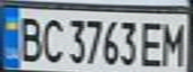3: (118, 17, 142, 68), (63, 16, 87, 65)
6: (103, 17, 124, 66)
7: (81, 16, 103, 65)
B: (12, 14, 45, 63)
C: (39, 14, 66, 63)
E: (139, 18, 166, 68)
M: (160, 18, 190, 68)
